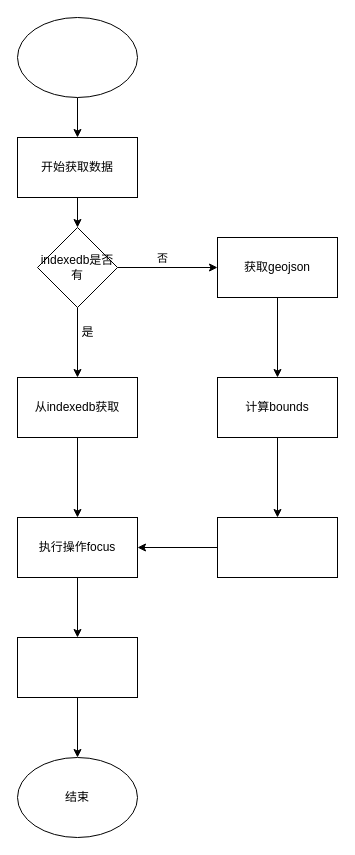
The diagram is 355 pixels wide and 855 high, and some of its shapes have lost their labels. Here are the shapes that lost their labels. From the top down, the centre of each, then its label:
At point 77,57: "开始".
At point 277,547: "保存indexedb缓存".
At point 77,667: "geojson和bounds更新显示数据".
